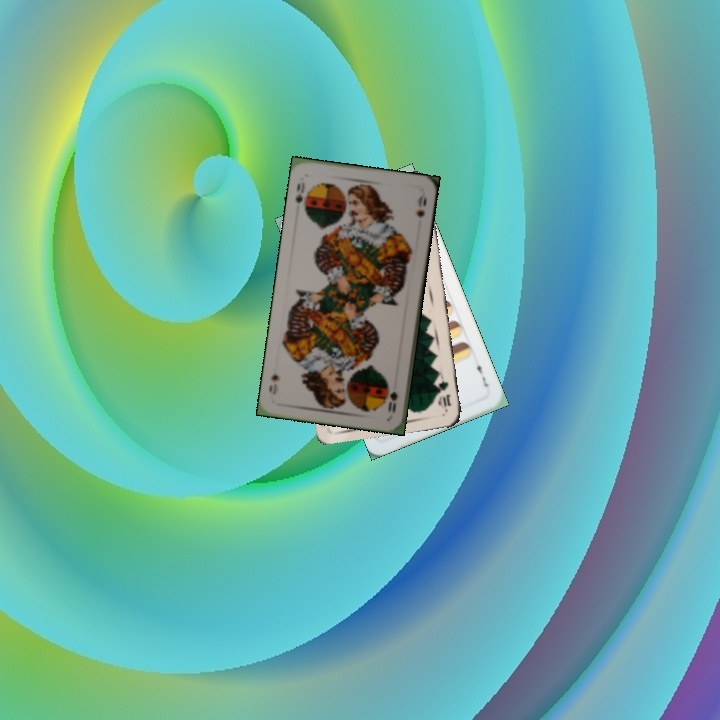E7: (473, 356, 491, 389)
G10: (434, 377, 453, 412)
SO: (384, 387, 400, 416), (291, 178, 307, 206)
